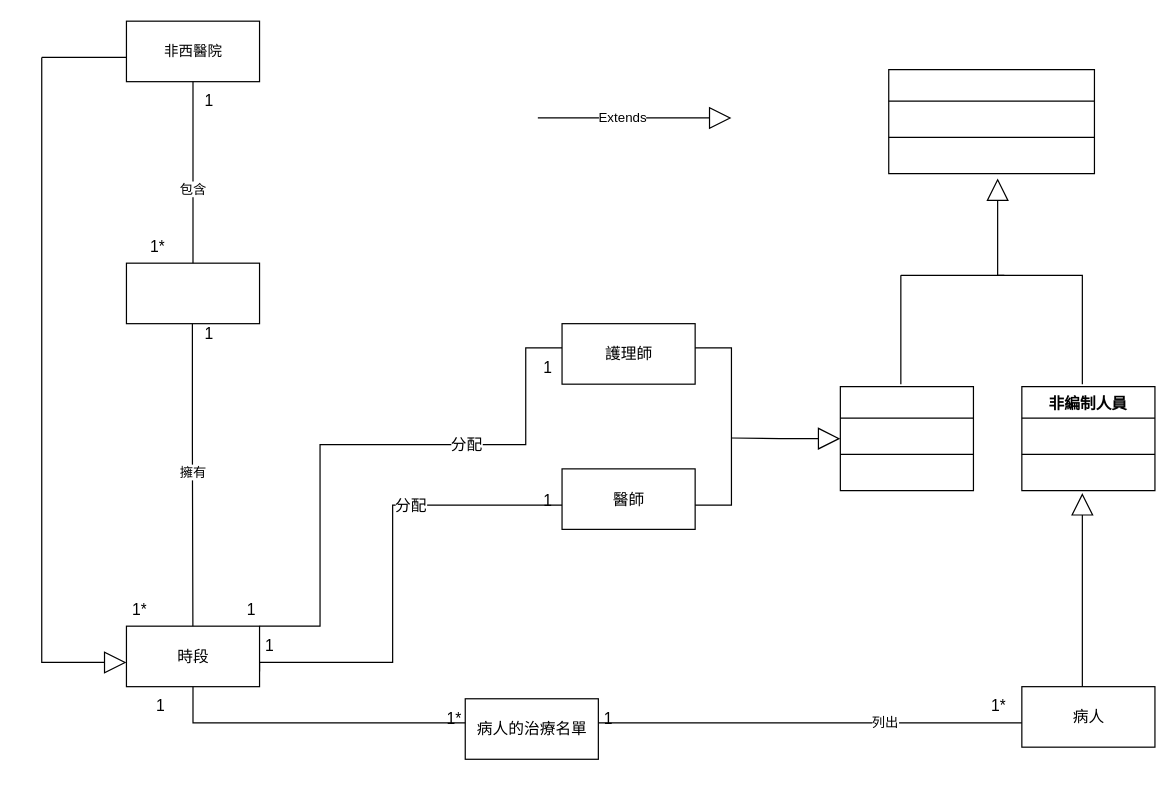
Image size: 1176x793. Some labels were removed from this diagram. Here are the shapes that lost their labels. From the top down, the centre of each, then its label:
At (x=991, y=121): "人員名單".
At (x=192, y=293): "診間".
At (x=906, y=438): "編制人員".
